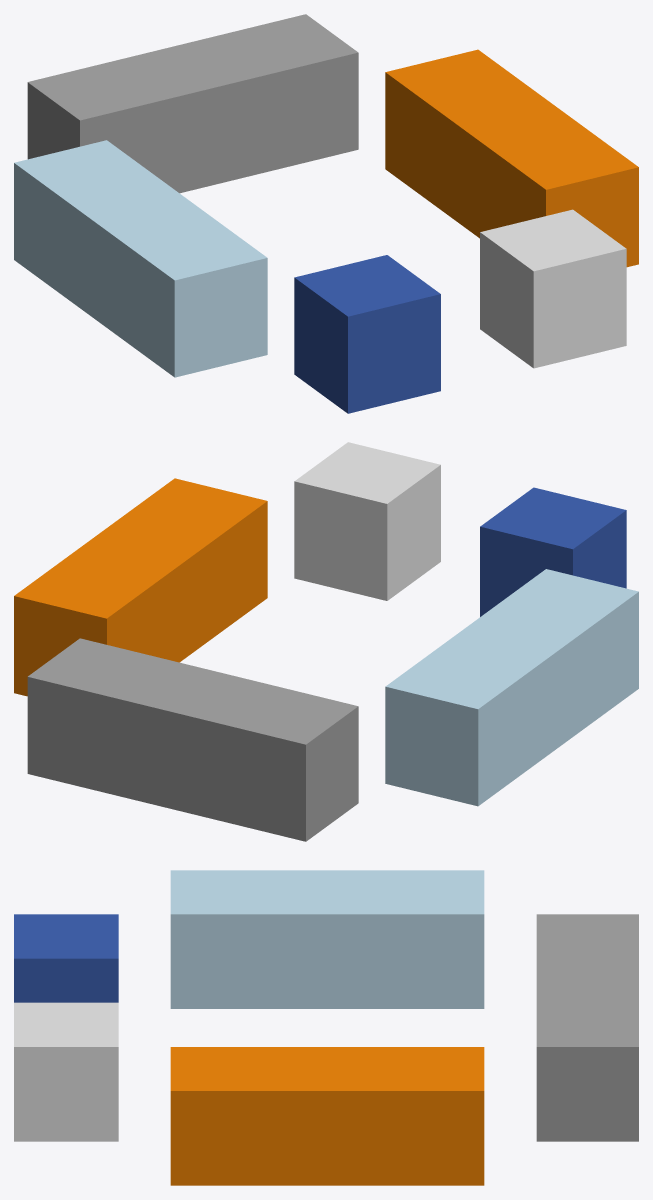
The model's file is OriginalObstacles.dae.
The picture shows the model from 3 angles, top to bottom: view 1: azimuth 30°, elevation 25°; view 2: azimuth 150°, elevation 25°; view 3: azimuth 270°, elevation 25°; orthographic projection. The views are drawn at different scales.
Visible parts, largest first — view 1: Part 2, Part 5, Part 6, Part 3, Part 4; view 2: Part 2, Part 5, Part 6, Part 4, Part 3; view 3: Part 6, Part 5, Part 2, Part 4, Part 3.
Boxes of the visible parts, x1,y1,x2,y2 form: Part 2: (27,14,358,193); Part 5: (14,140,267,377); Part 6: (385,49,638,267); Part 3: (294,255,440,413); Part 4: (480,209,626,368); Part 2: (27,638,358,841); Part 5: (385,569,638,806); Part 6: (14,478,267,696); Part 4: (294,442,440,600); Part 3: (480,487,626,616); Part 6: (170,1047,484,1185); Part 5: (170,870,484,1008); Part 2: (536,914,638,1141); Part 4: (14,1002,118,1141); Part 3: (14,914,118,1002).
Size of the model in its own units: 25 by 29.9 by 5.
